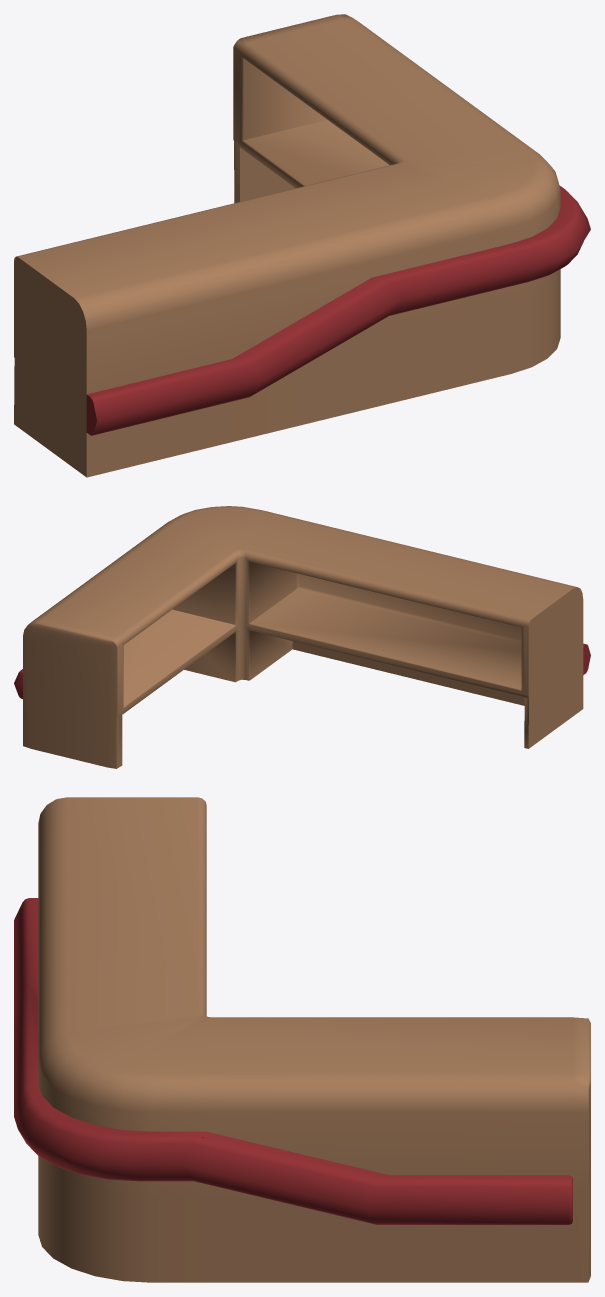
Rendered from recepcao.fbx.
3 renders of one model, top to bottom at view 1: azimuth 30°, elevation 25°; view 2: azimuth 150°, elevation 25°; view 3: azimuth 270°, elevation 25°, orthographic. The views are drawn at different scales.
Parts seen in each view (by area): view 1: Recepcao; view 2: Recepcao; view 3: Recepcao.
Part boxes in pixels (x1,y1,x2,y2): Recepcao: (14, 14, 590, 477); Recepcao: (14, 506, 590, 768); Recepcao: (14, 797, 590, 1282).
Bounding box in the file's own units: 420 × 129 × 342.
